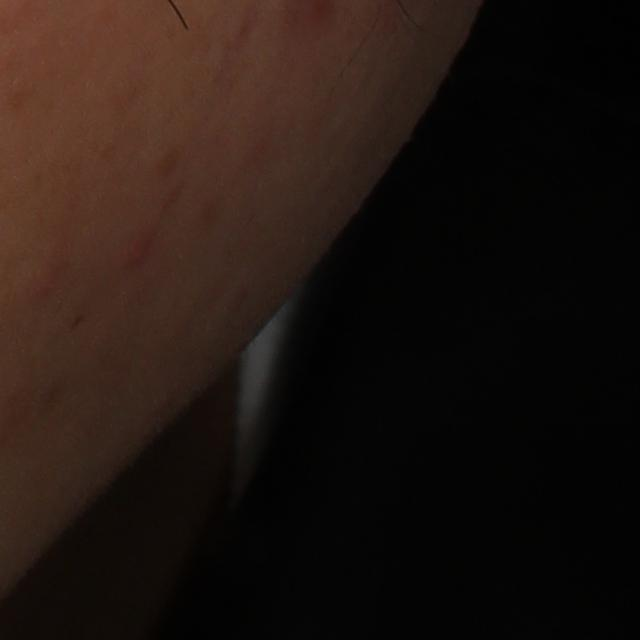papule: (121, 228, 160, 265)
